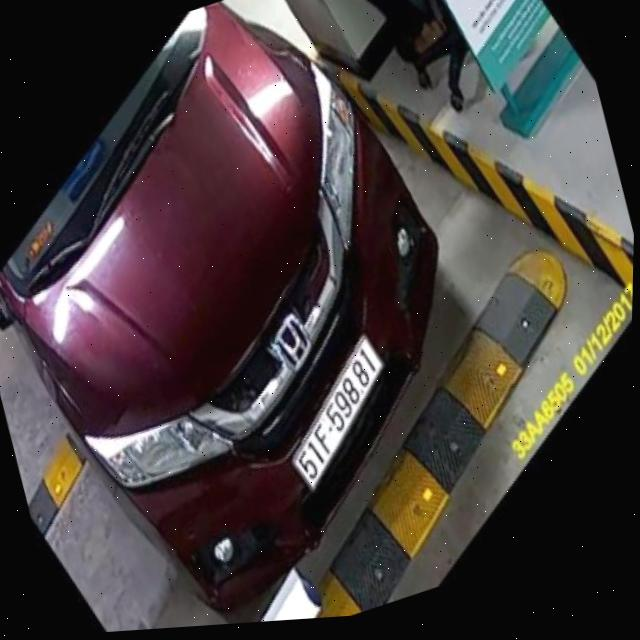car: (0, 0, 531, 640)
plate: (263, 325, 412, 501)
